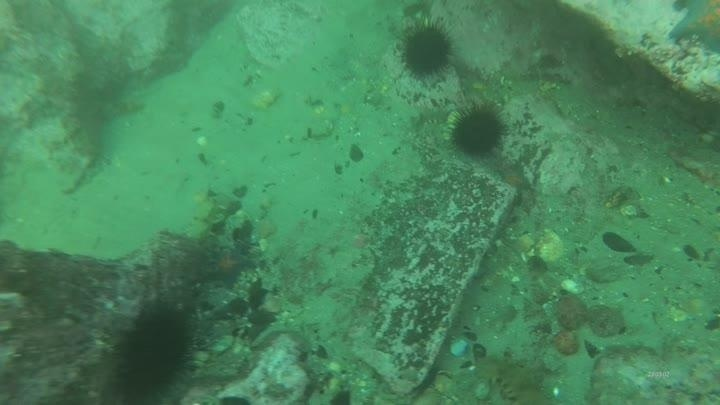echinus: (106, 300, 203, 404), (395, 18, 457, 82), (447, 101, 508, 160)
holothurian: (472, 353, 553, 404), (183, 189, 226, 247)
starfish: (666, 1, 720, 55), (201, 242, 254, 289), (497, 162, 531, 193)
